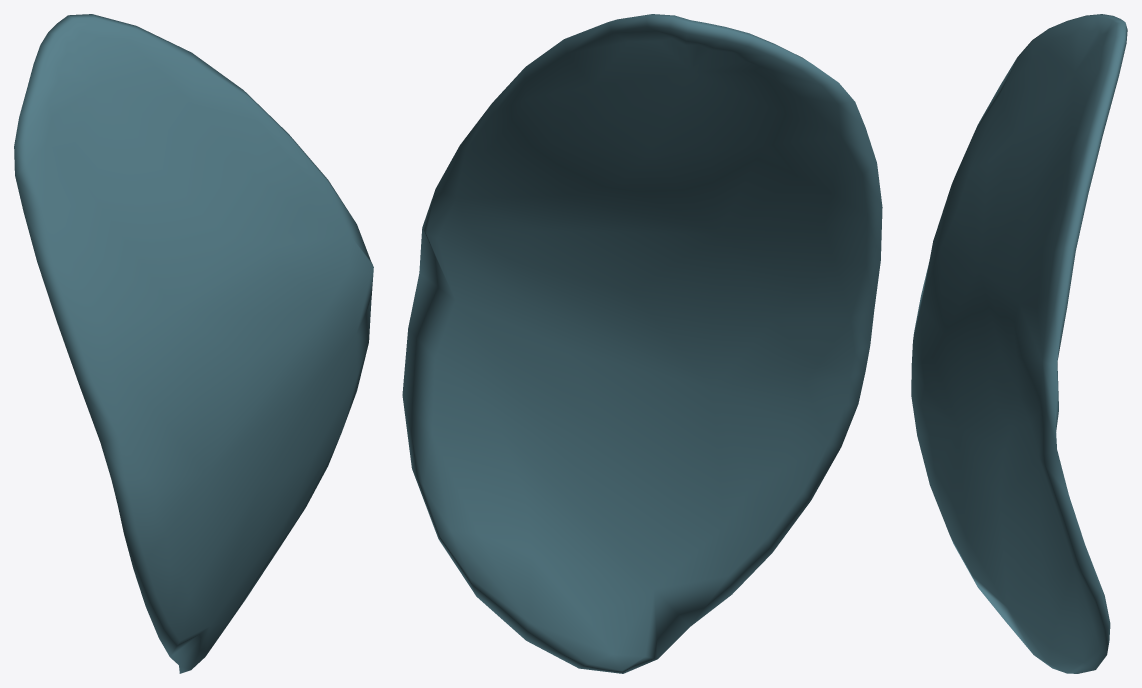
The model's file is Subscapularis_muscle-Humeral_insertion.r_Generated_Mesh_From_X3.glb.
3 renders of one model, left to right at view 1: azimuth 30°, elevation 25°; view 2: azimuth 150°, elevation 25°; view 3: azimuth 270°, elevation 25°, orthographic. The views are drawn at different scales.
Parts seen in each view (by area): view 1: Subscapularis_muscle-Humeral_insertion.r_Generated_Mesh_From; view 2: Subscapularis_muscle-Humeral_insertion.r_Generated_Mesh_From; view 3: Subscapularis_muscle-Humeral_insertion.r_Generated_Mesh_From.
Boxes of the visible parts, x1,y1,x2,y2 form: Subscapularis_muscle-Humeral_insertion.r_Generated_Mesh_From: [14, 14, 373, 673]; Subscapularis_muscle-Humeral_insertion.r_Generated_Mesh_From: [402, 14, 882, 673]; Subscapularis_muscle-Humeral_insertion.r_Generated_Mesh_From: [911, 14, 1127, 673].
Bounding box in the file's own units: 0.0105 × 0.0169 × 0.00546.
